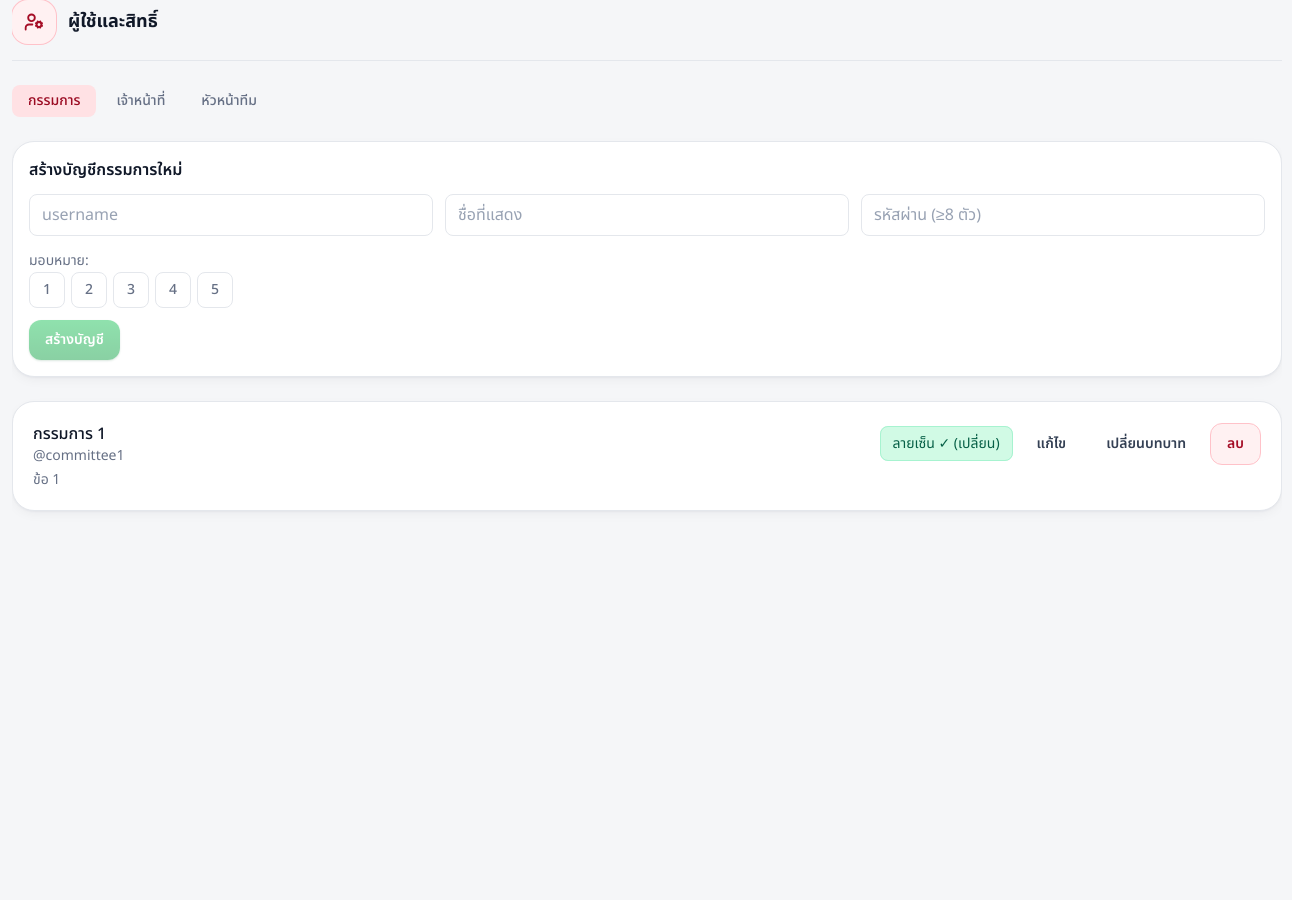
Test: Role change panel › COMMITTEE -> STAFF: sends role + (problem, school) assignments, then follows the user to the STAFF tab
This screenshot has width=1292, height=900.
Click the button "เปลี่ยนบทบาท" at (1146, 444), box [1090,424,1202,464]
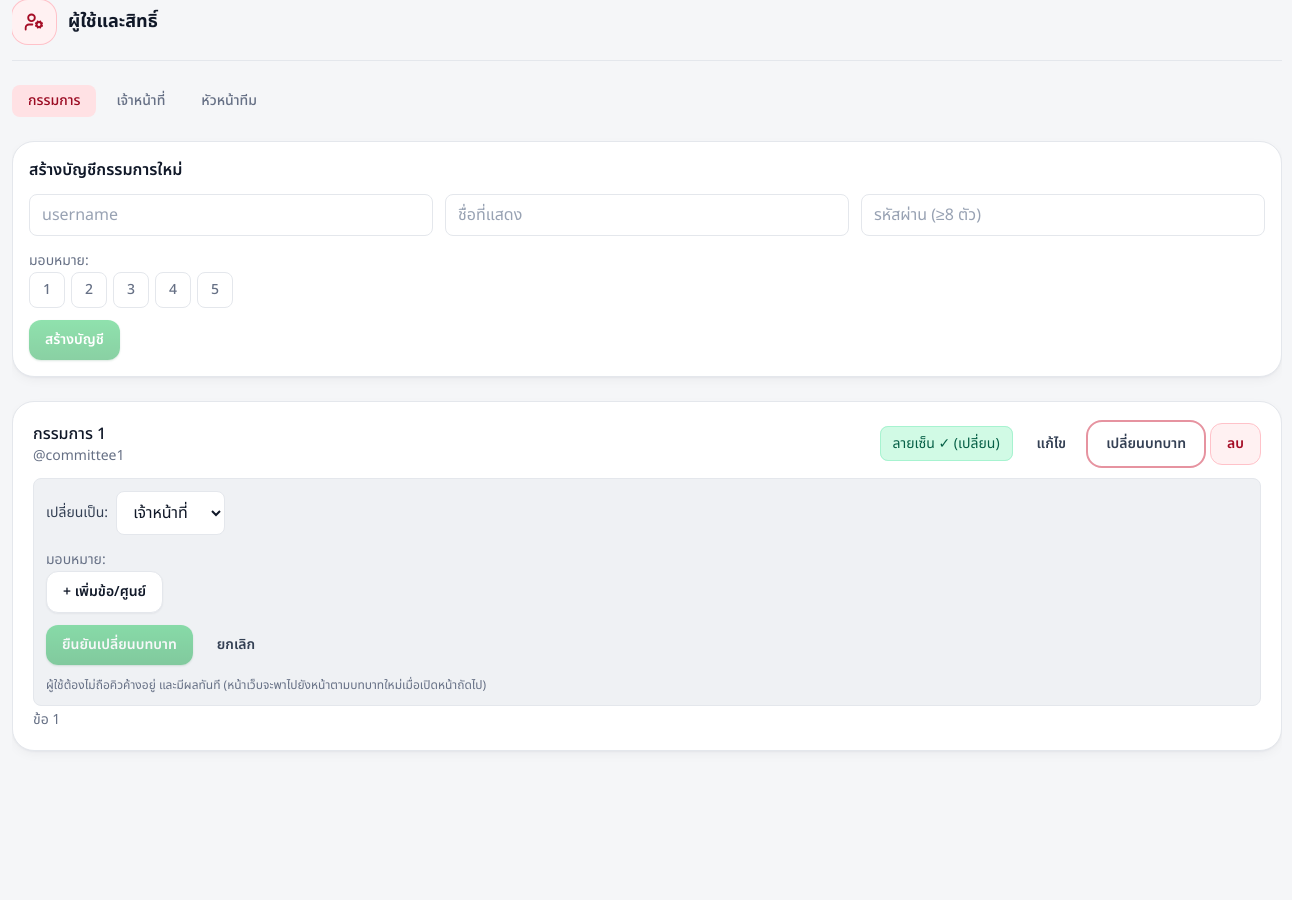
Click the button "+ เพิ่มข้อ/ศูนย์" at (105, 592), box [46,571,163,613]
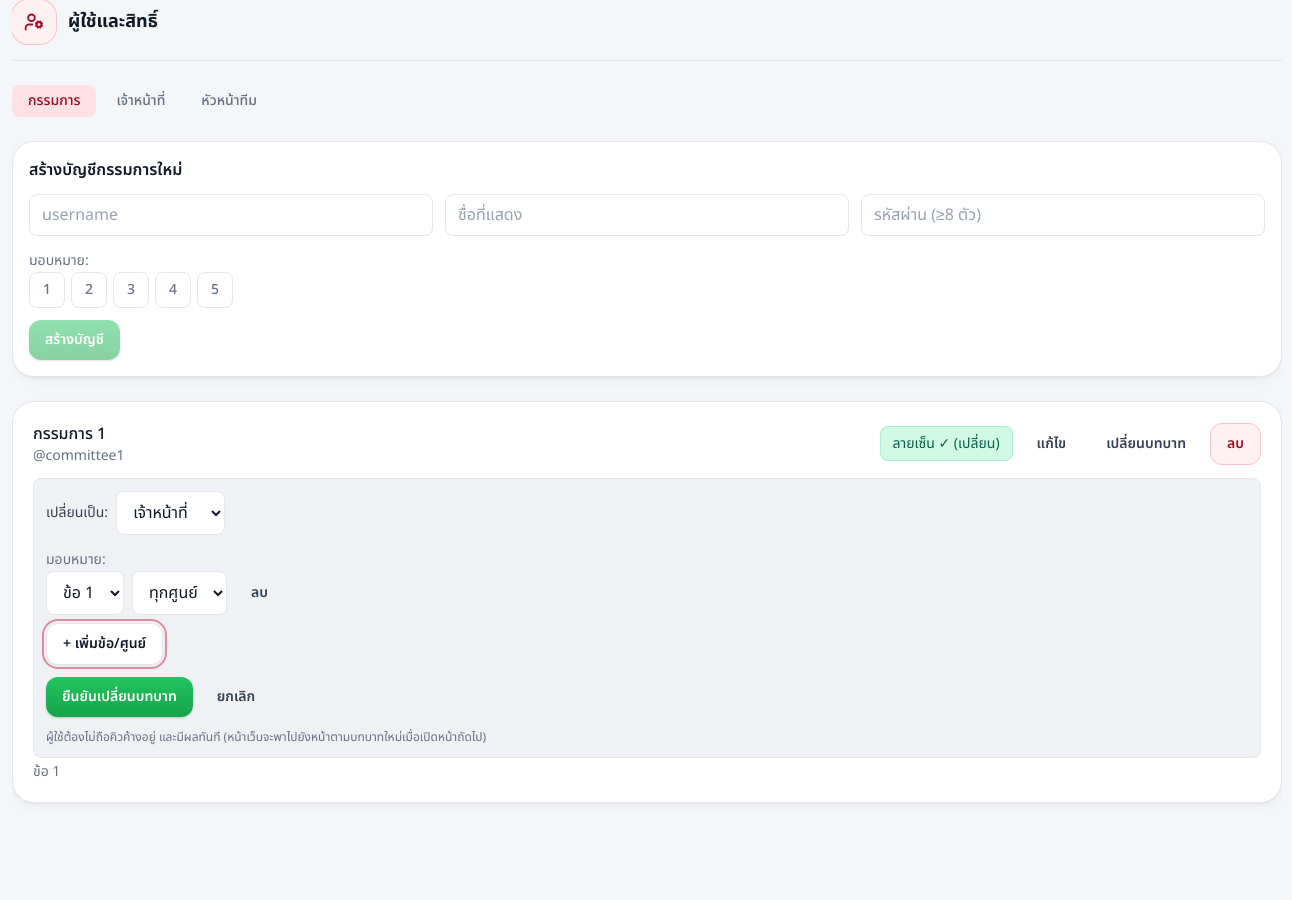
Select "ข้อ 3" in the dropdown named "ข้อ" at (85, 593), box [46,571,124,615]
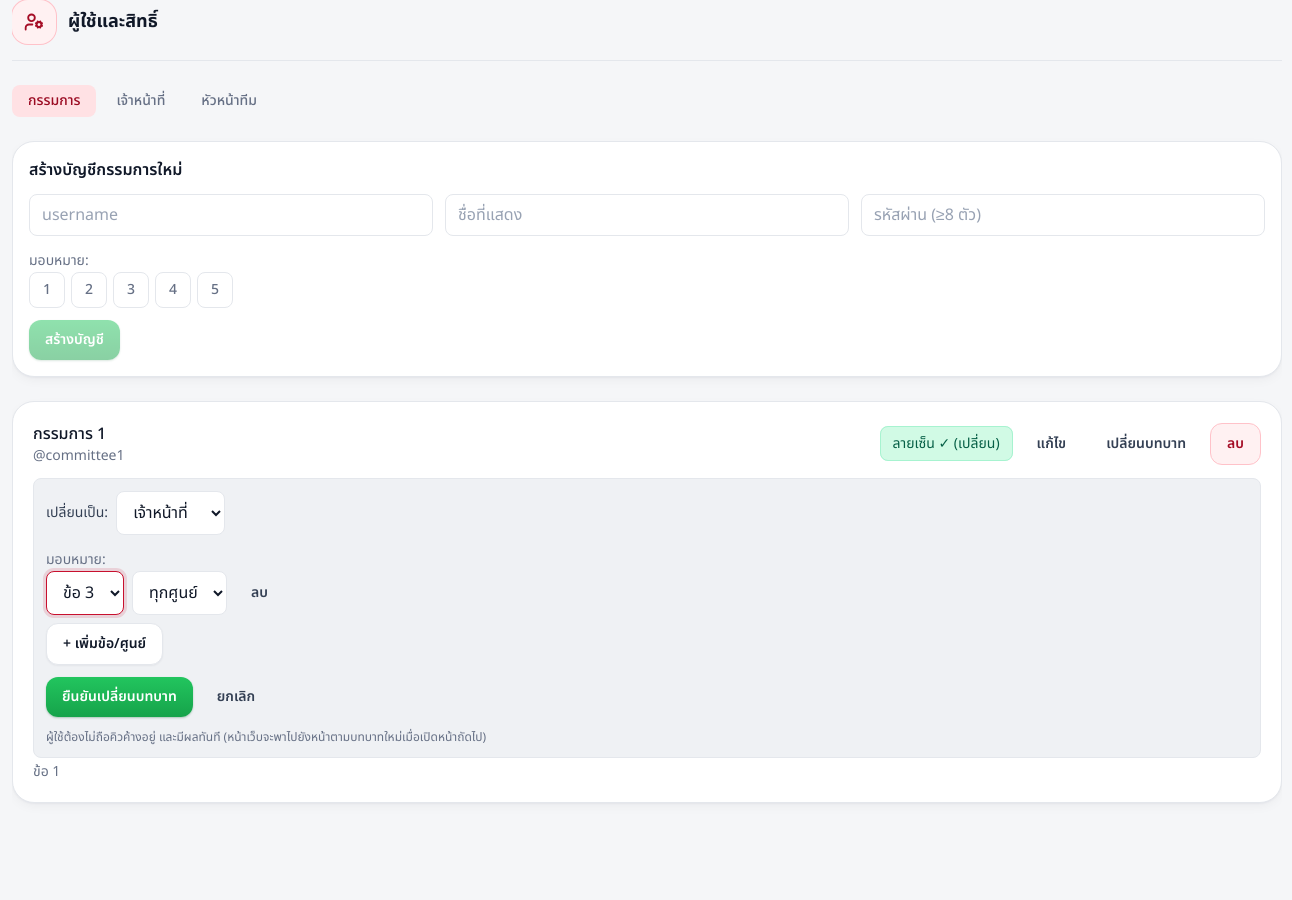
Select "ศูนย์ B" in the dropdown named "ศูนย์" at (180, 593), box [132,571,227,615]
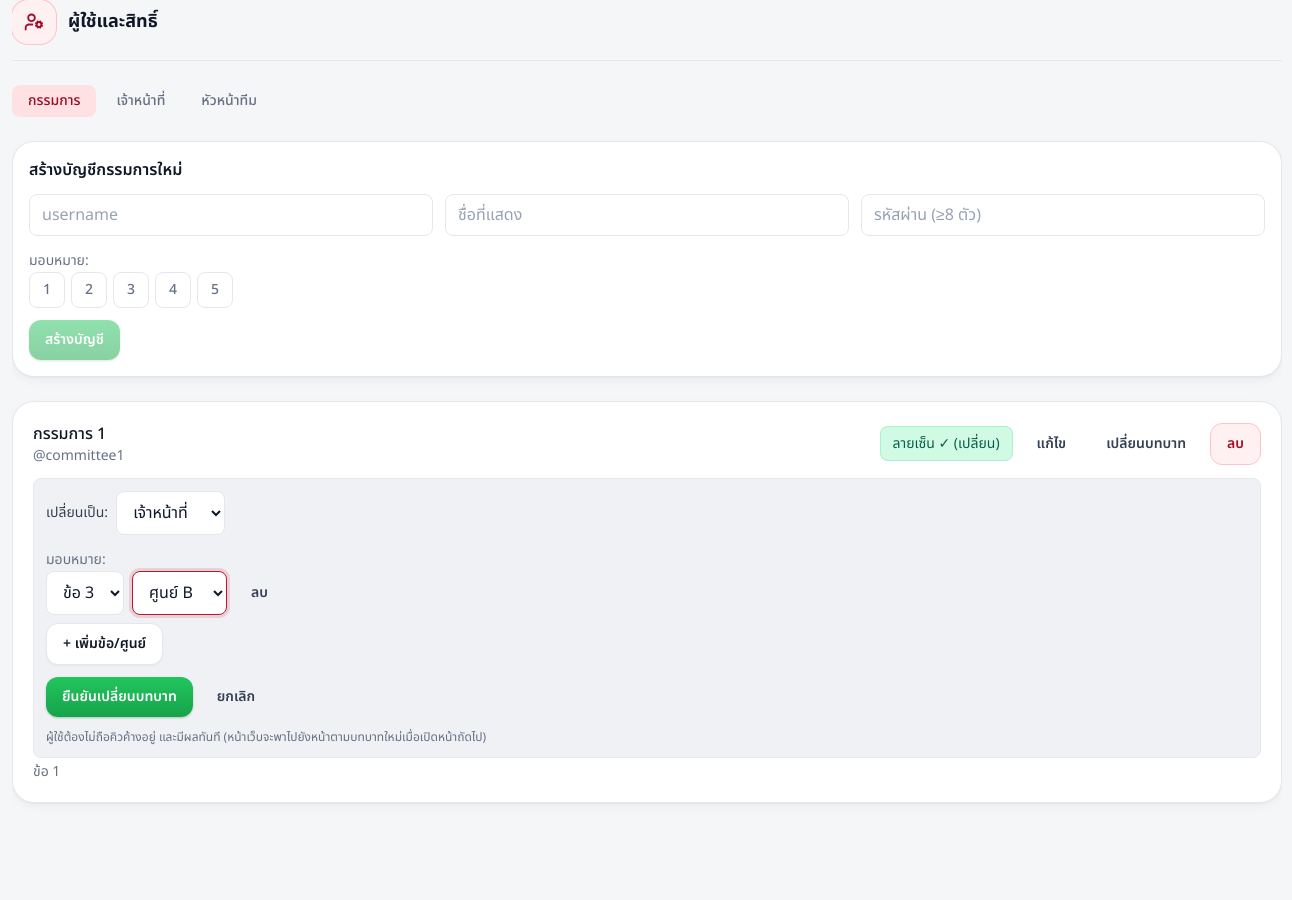
Click the button "ยืนยันเปลี่ยนบทบาท" at (119, 697), box [46,677,193,717]
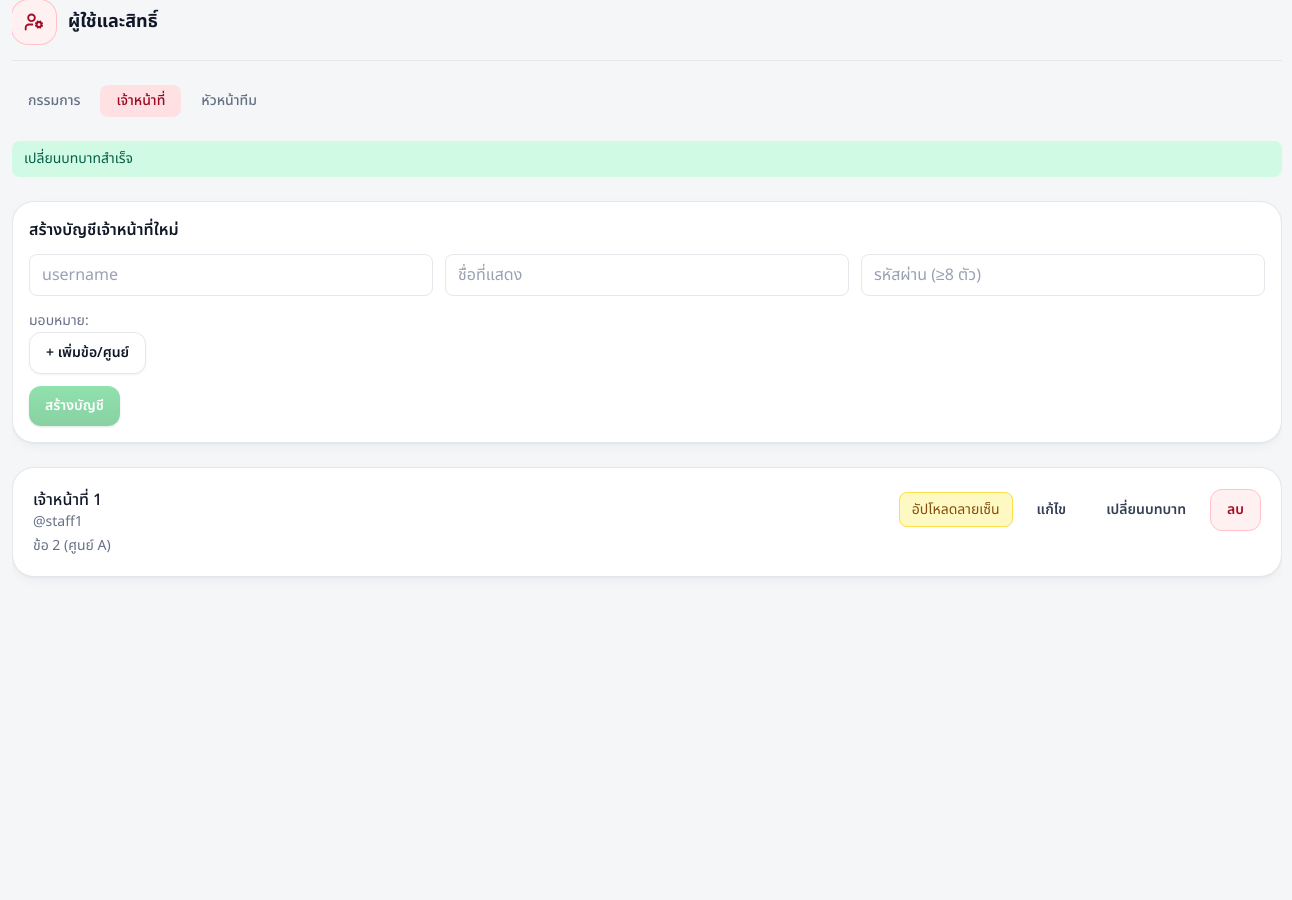
Check: the text "เจ้าหน้าที่ 1" is shown, box [33,488,102,512]
